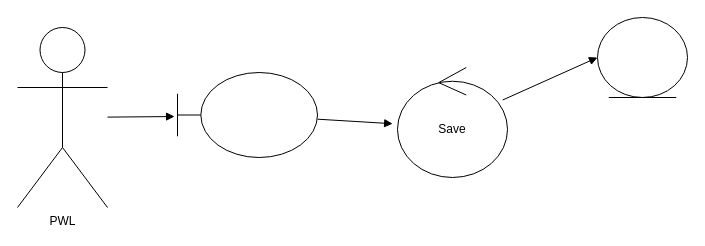
Image size: 705x246. Some labels were removed from this diagram. Here are the shapes that lost their labels. From the top down, the centre of each, then its label:
At [642,57]: "Book added".
At [247,115]: "Fill new information about the book who should be added".
